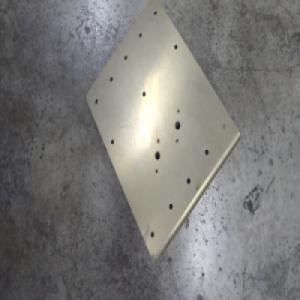MetalSheet: (84, 0, 242, 267)
